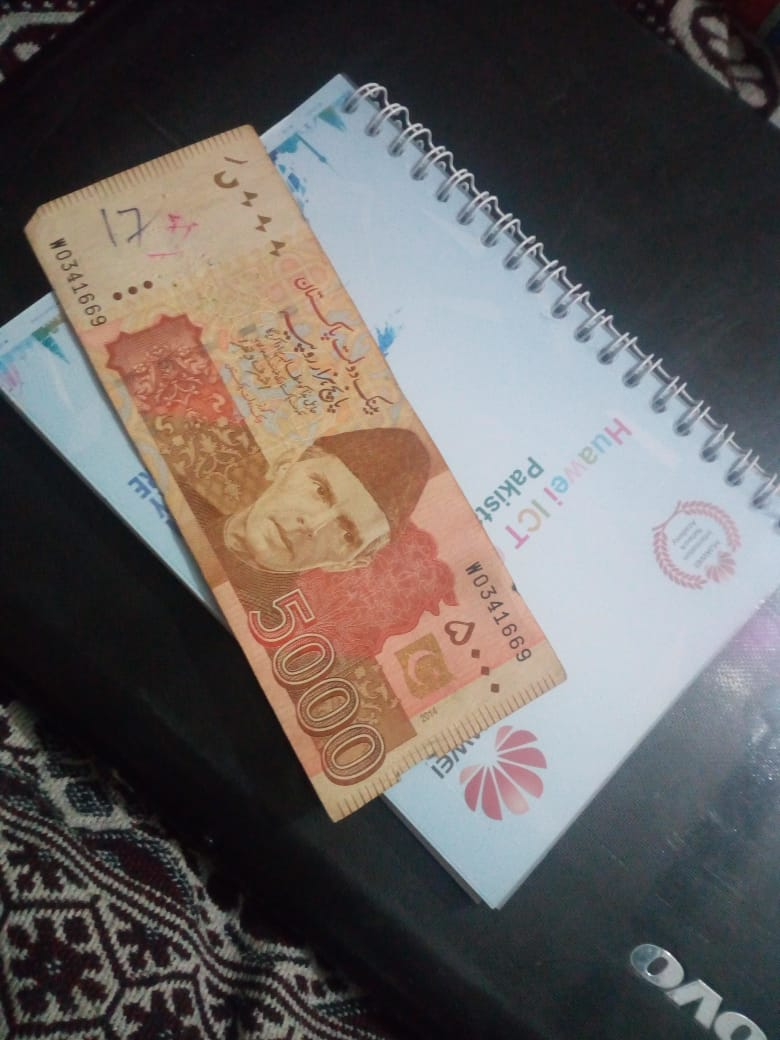5000 rupee: (38, 137, 538, 839)
